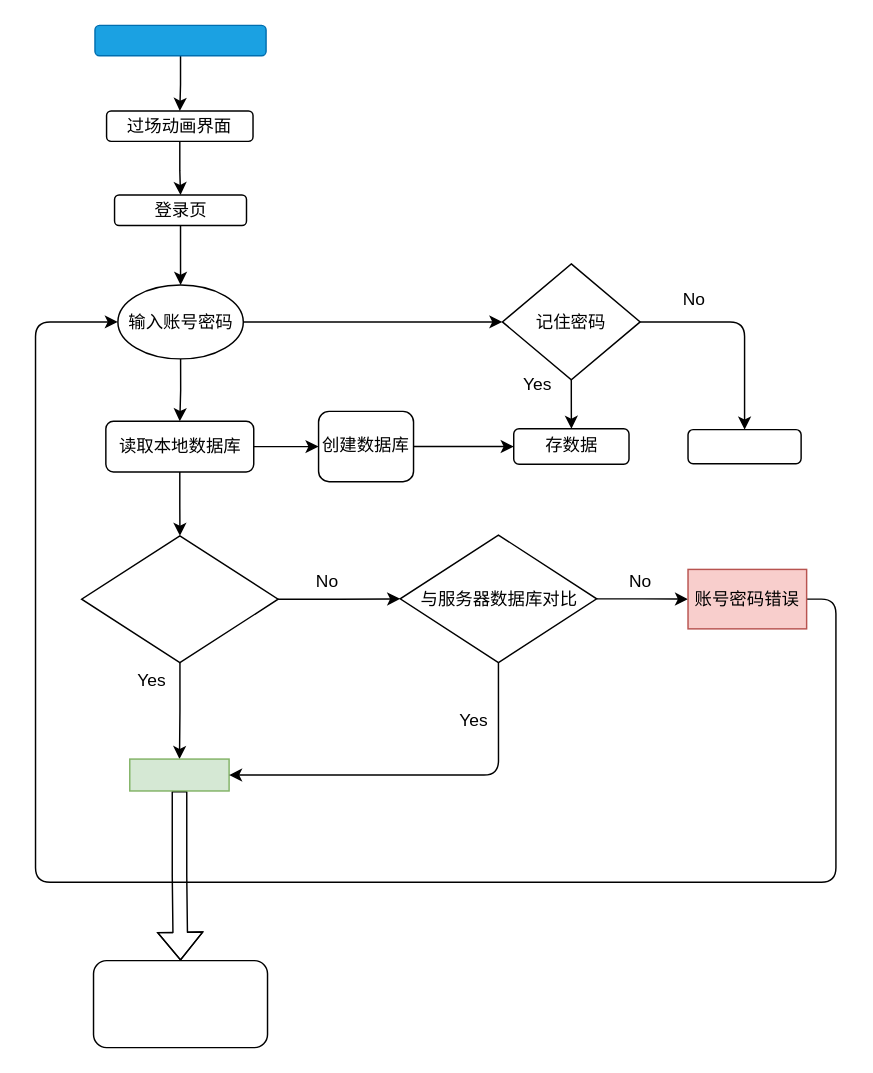
Some shapes in this 873 by 1073 pixel diagram are drawn without their labels. The shapes that lost their labels are listed below. From the top down, each one's centre as x and y in pixels, then its label:
[180,40]: 启动app
[744,446]: 清空数据
[179,598]: 与本地数据库对比
[178,774]: 登录成功
